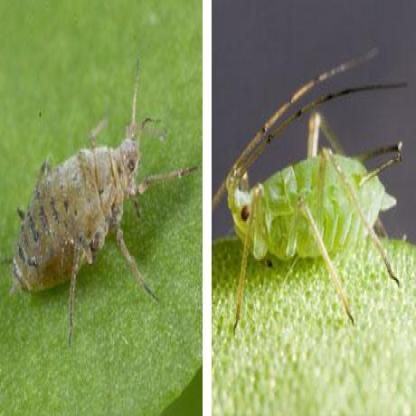aphid: (226, 47, 404, 324), (10, 77, 195, 320)
